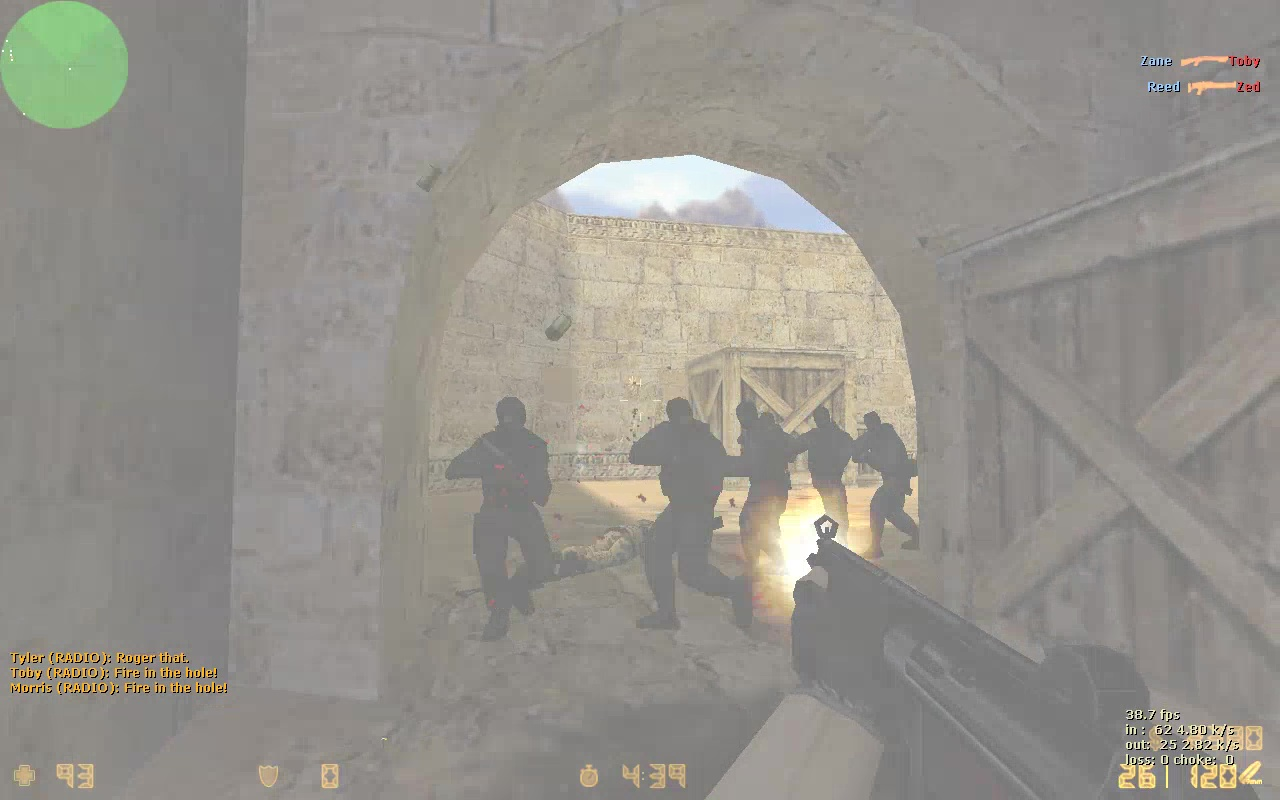ct: (628, 396, 751, 636), (449, 399, 552, 635), (730, 401, 798, 582), (854, 410, 920, 557), (797, 404, 854, 555)
